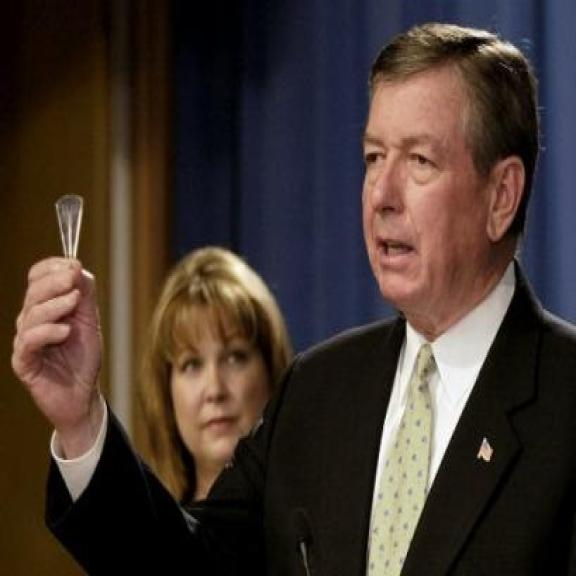face: (362, 71, 520, 316), (162, 326, 267, 468)
